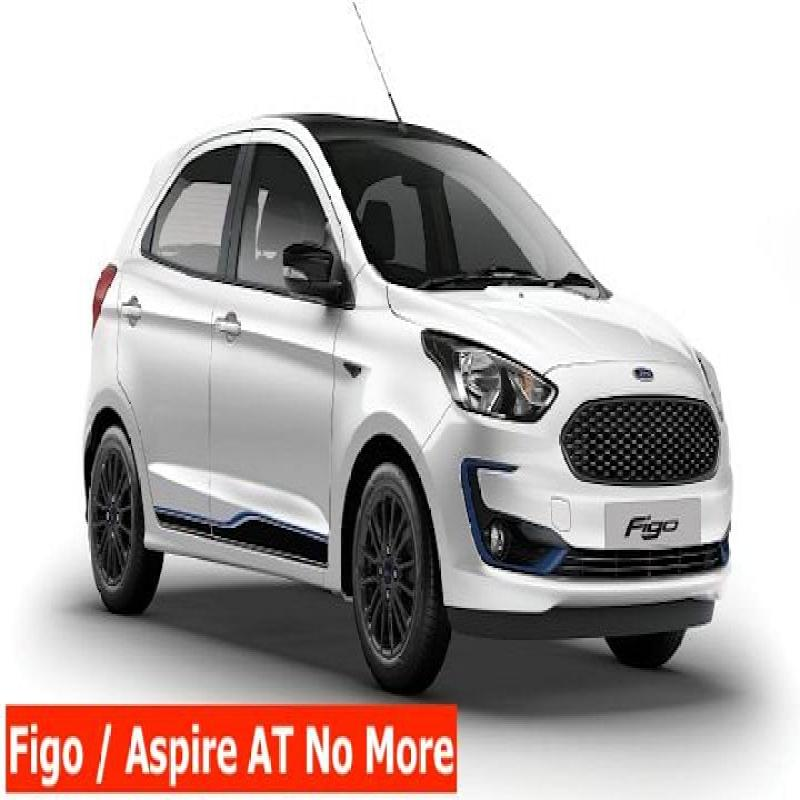car: (79, 121, 767, 698)
